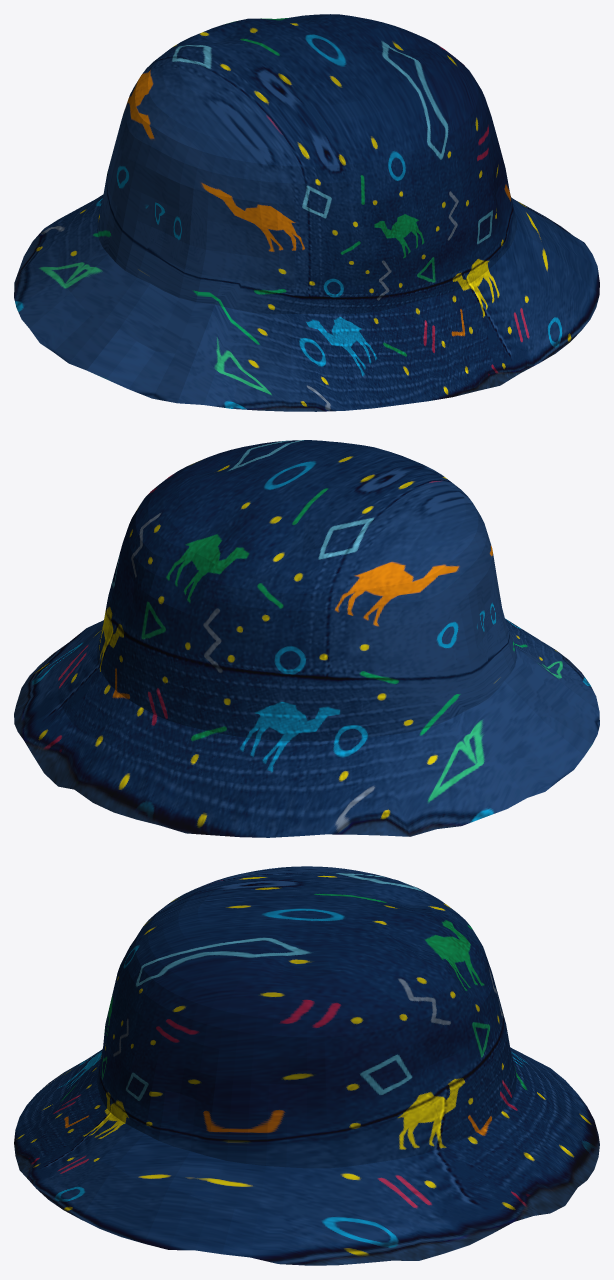
Rendered from topi2.fbx.
The picture shows the model from 3 angles, top to bottom: view 1: azimuth 30°, elevation 25°; view 2: azimuth 150°, elevation 25°; view 3: azimuth 270°, elevation 25°; orthographic projection.
Parts seen in each view (by area): view 1: Sphere; view 2: Sphere; view 3: Sphere.
Part boxes in pixels (box(x1,y1,x2,y2)): Sphere: box(14, 14, 599, 411); Sphere: box(14, 440, 599, 837); Sphere: box(14, 866, 599, 1265).
Bounding box in the file's own units: 268 × 122 × 268.
1 material, 1 textured.
